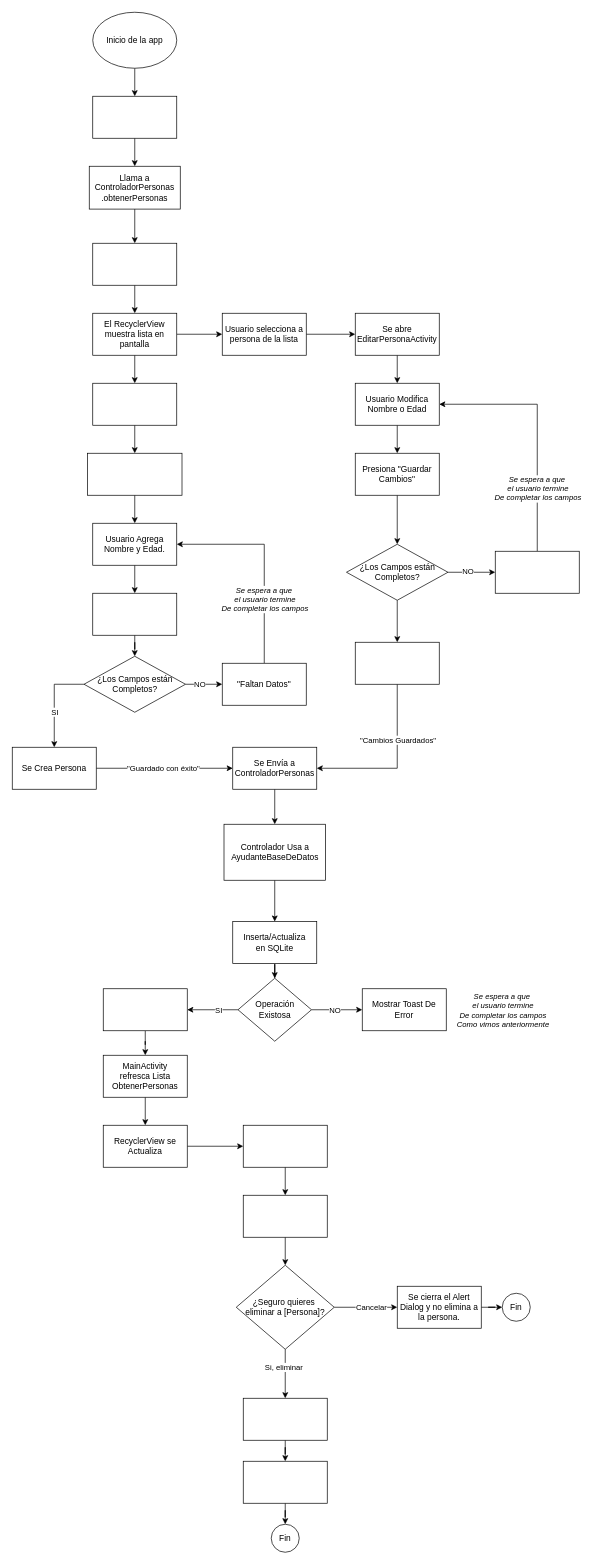
The diagram is 593 pixels wide and 1565 high, and some of its shapes have lost their labels. The centre of each missing label's shape, as x and y in pixels:
"Los campos no pueden estar vacíos": point 537,572
Actualiza el objeto persona.: point 397,663
Controlador Elimina en BD: point 285,1419
El usuario toca el botón de agregar persona: point 134,404
Main Activity se abre.: point 134,117
Refrescar Lista: point 285,1482
Se Abre AgregarPersonaAcivity: point 134,474
Se crea un AlertDialog de confirmación: point 285,1216
Se Obtiene Lista desde la Base de Datos (SQLite): point 134,264
Se presiona "Guardar Persona": point 134,614
Usuario Puede Eliminar Persona (Manteniendo presionado): point 285,1146
Volver a MainActivity: point 145,1009
